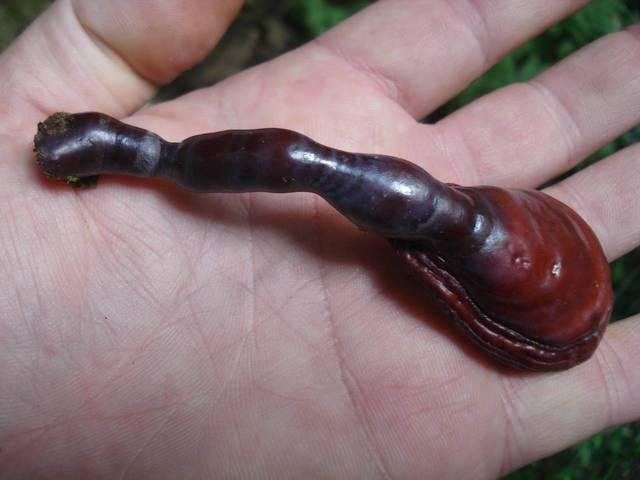poisonous_mushroom: (31, 108, 615, 373)
